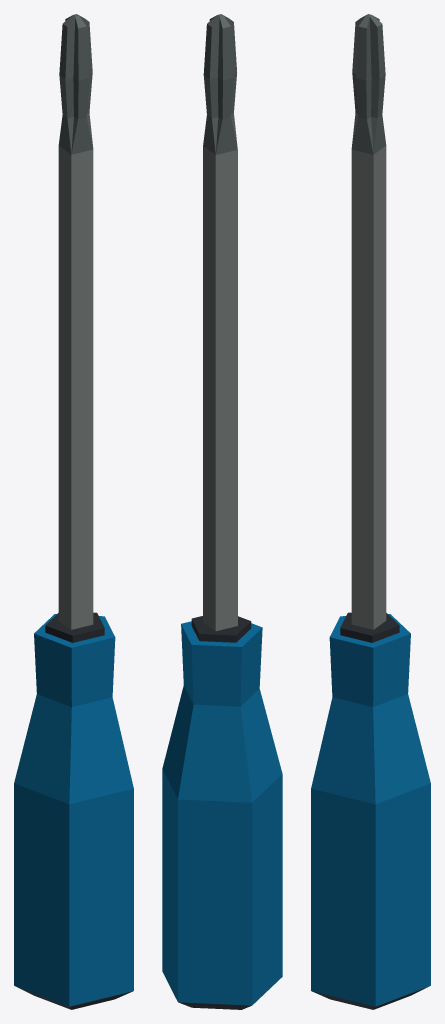
The model's file is SM_Turn-Screw_A.gltf.
3 renders of one model, left to right at view 1: azimuth 30°, elevation 25°; view 2: azimuth 210°, elevation 25°; view 3: azimuth 330°, elevation 25°, orthographic.
Parts seen in each view (by area): view 1: SM_Turn-Screw_A; view 2: SM_Turn-Screw_A; view 3: SM_Turn-Screw_A.
Part boxes in pixels (bbox=[...]): SM_Turn-Screw_A: bbox=[14, 14, 133, 1009]; SM_Turn-Screw_A: bbox=[162, 14, 282, 1009]; SM_Turn-Screw_A: bbox=[311, 14, 430, 1009].
Size of the model in its own units: 0.0539 by 0.4818 by 0.0513.
1 material, 1 textured.
